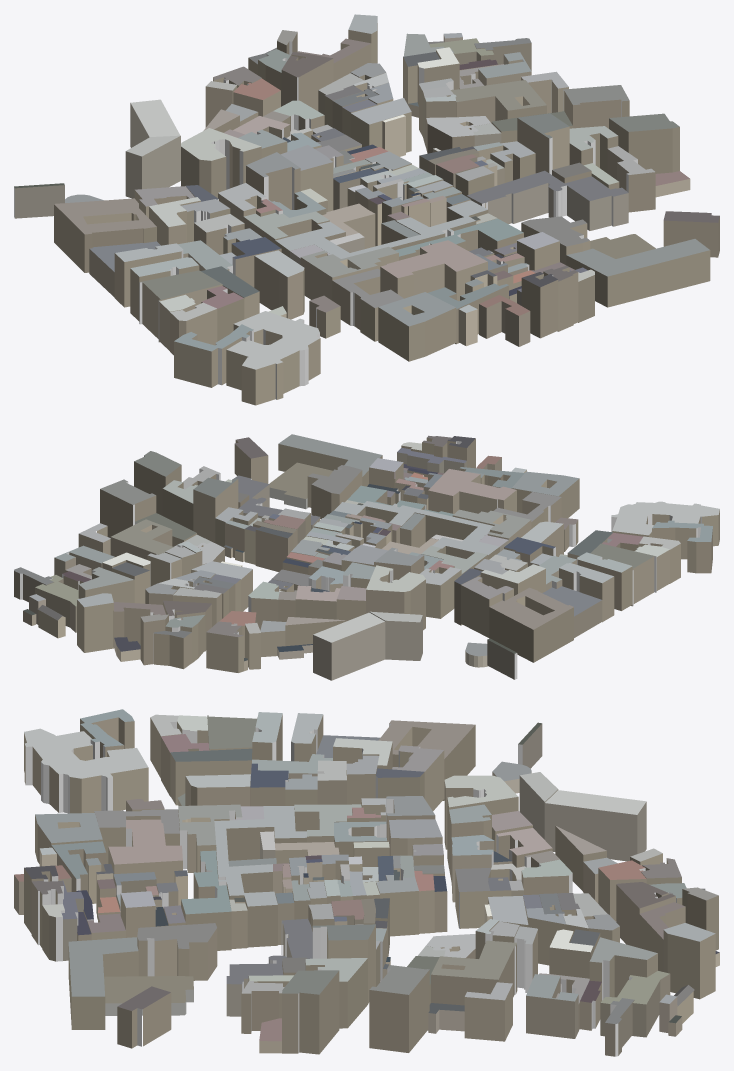
3 renders of one model, top to bottom at view 1: azimuth 30°, elevation 25°; view 2: azimuth 150°, elevation 25°; view 3: azimuth 270°, elevation 25°, orthographic. The views are drawn at different scales.
Visible parts, largest first — view 1: tuile; view 2: tuile; view 3: tuile.
Boxes of the visible parts, <box> form: tuile: <box>14,14,719,405</box>; tuile: <box>14,434,719,680</box>; tuile: <box>14,709,719,1056</box>.
Size of the model in its own units: 272 by 32.48 by 264.
